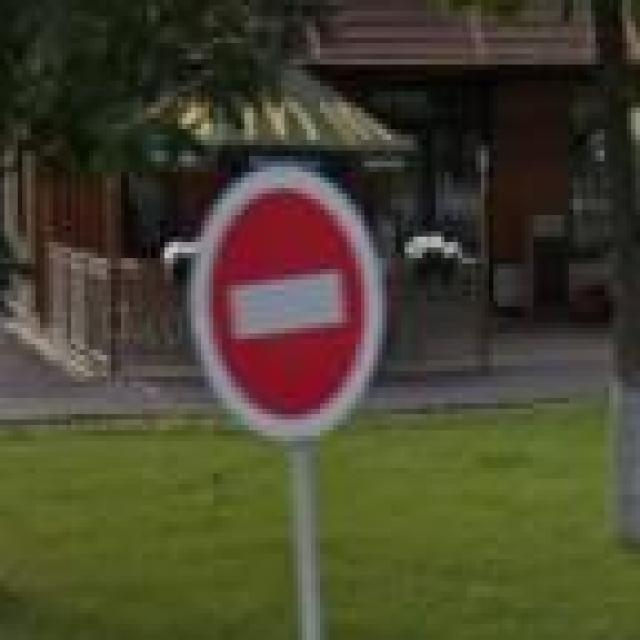traffic_sign: (186, 167, 386, 446)
